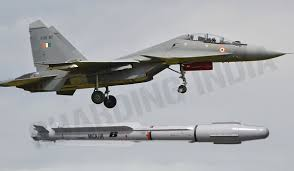maybay_muctieu: (12, 23, 285, 92)
ten_lua: (27, 118, 276, 148)
